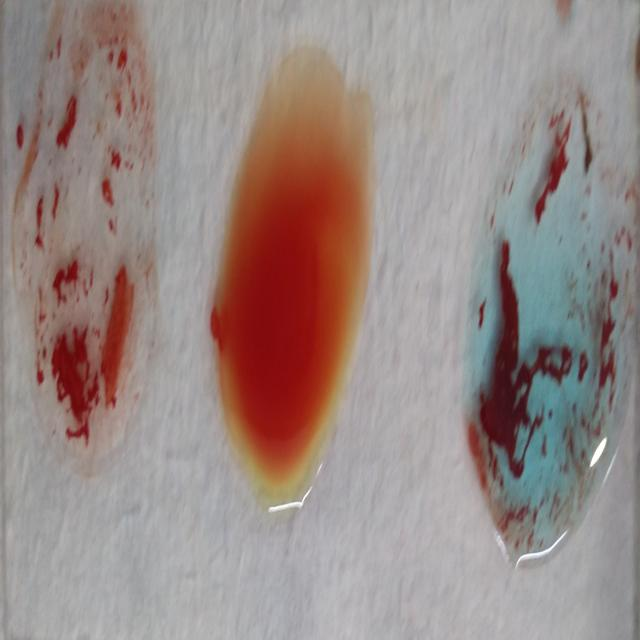A: (473, 96, 621, 564)
D: (21, 11, 162, 488)
